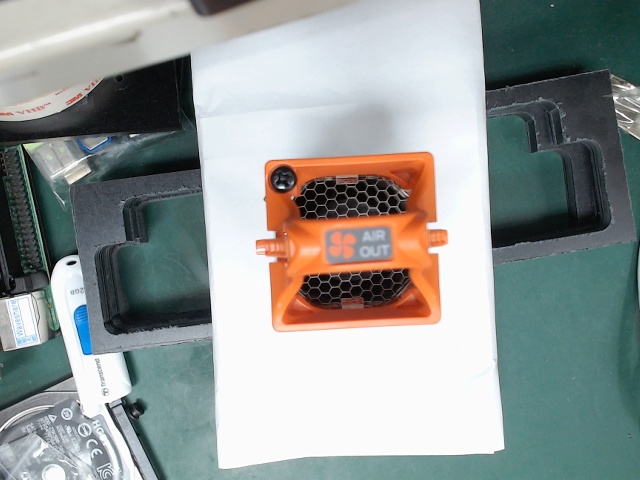1_1: (152, 245, 506, 287)
